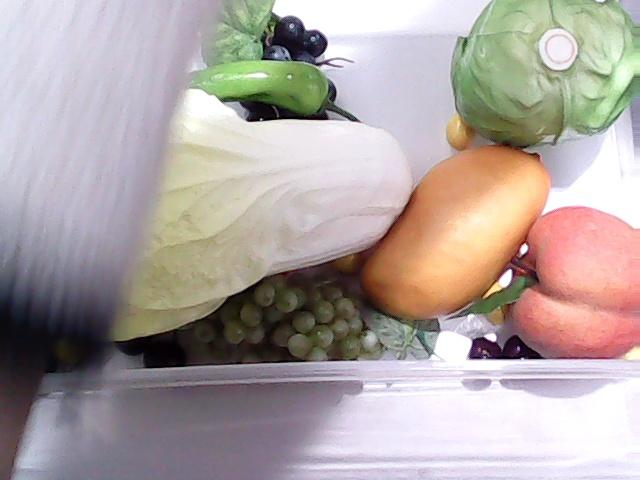cabbage: (451, 0, 640, 147)
grape: (110, 266, 442, 370), (185, 0, 332, 120)
mango: (363, 144, 551, 328)
napa cabbage: (4, 55, 404, 352)
peach: (506, 204, 638, 360)
pepper: (126, 21, 366, 138)
